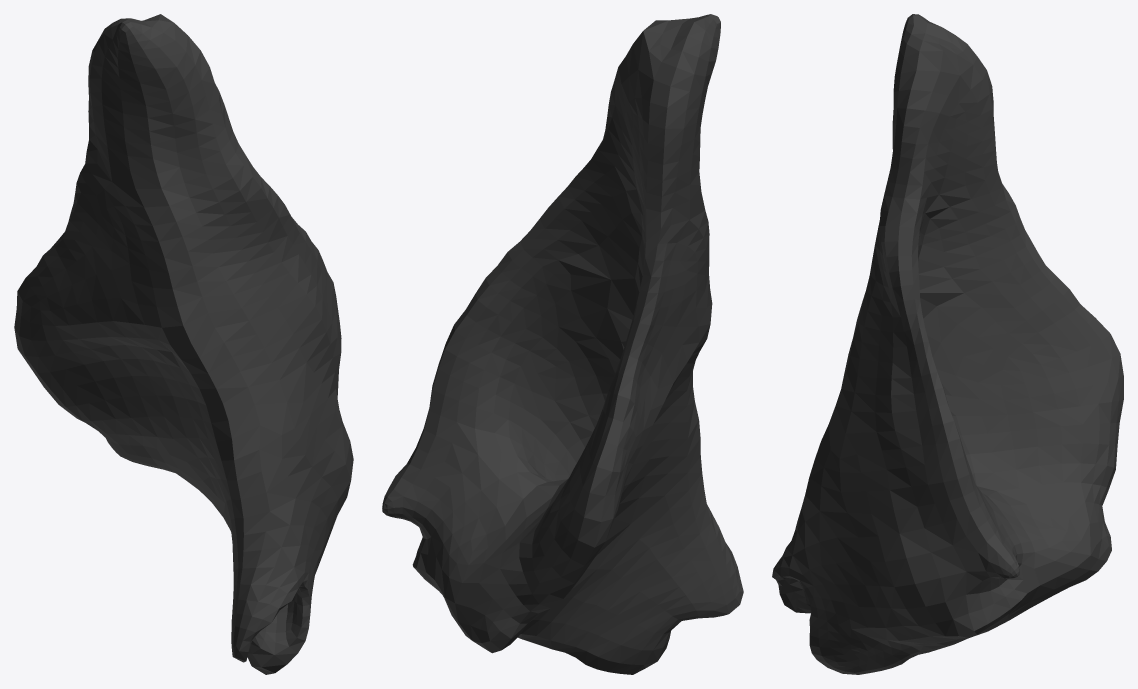
Rendered from Lacrimal_L.glb.
The picture shows the model from 3 angles, left to right: view 1: azimuth 30°, elevation 25°; view 2: azimuth 150°, elevation 25°; view 3: azimuth 270°, elevation 25°; orthographic projection. The views are drawn at different scales.
Parts seen in each view (by area): view 1: Lacrimal_L; view 2: Lacrimal_L; view 3: Lacrimal_L.
Part boxes in pixels (<box>): Lacrimal_L: <box>14,14,353,674</box>; Lacrimal_L: <box>382,14,743,674</box>; Lacrimal_L: <box>772,14,1123,674</box>.
Bounding box in the file's own units: 54.04 × 129 × 67.03.
Materials: 1 (1 with a texture image).
